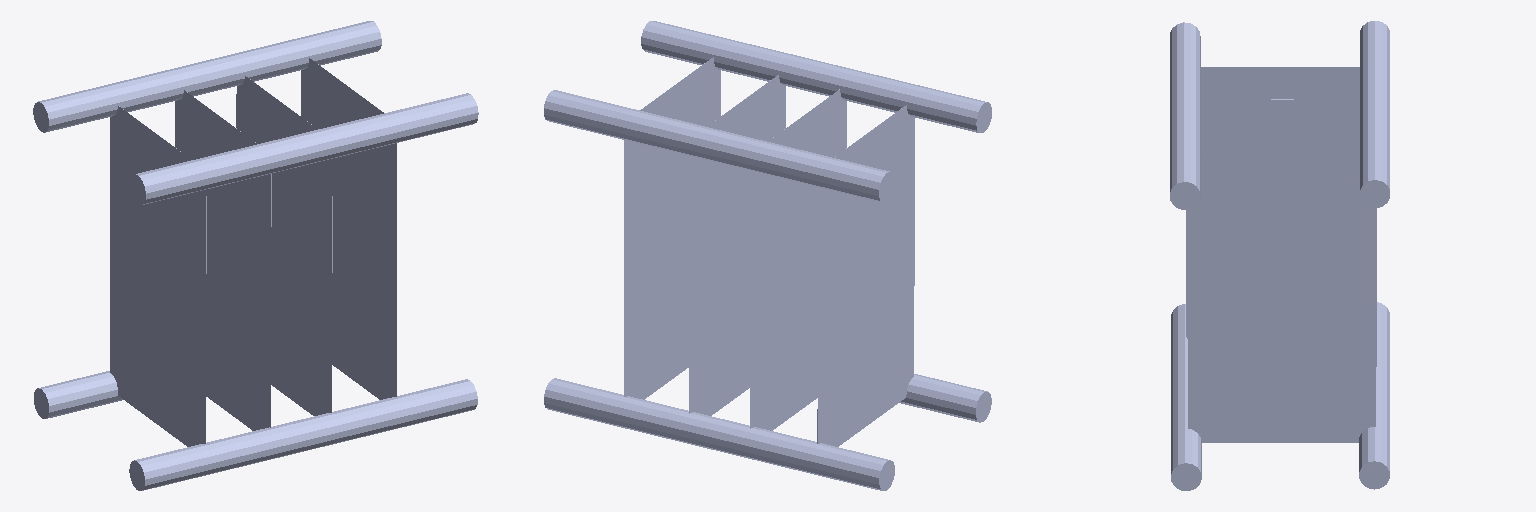
robot.urdf — save_area:
<?xml version="1.0" encoding="utf-8"?>
<!-- This URDF was automatically created by SolidWorks to URDF Exporter! Originally created by [author] ([email redacted]) 
     Commit Version: 1.5.1-0-g916b5db  Build Version: 1.5.7152.31018
     For more information, please see http://wiki.ros.org/sw_urdf_exporter -->
<robot
  name="save_area">
  <link
    name="base_link">
    <inertial>
      <origin
        xyz="1.75584290774767 -0.00633589656818148 2.50633842730977"
        rpy="0 0 0" />
      <mass
        value="4832.38898038469" />
      <inertia
        ixx="487.262155637017"
        ixy="-3.70248103518403E-12"
        ixz="1.88976473832086E-12"
        iyy="14460.7969790319"
        iyz="0.415679365082168"
        izz="14300.7991389132" />
    </inertial>
    <visual>
      <origin
        xyz="0 0 0"
        rpy="0 0 0" />
      <geometry>
        <mesh
          filename="package://save_area/meshes/base_link.STL" />
      </geometry>
      <material
        name="">
        <color
          rgba="0.792156862745098 0.819607843137255 0.933333333333333 1" />
      </material>
    </visual>
    <collision>
      <origin
        xyz="0 0 0"
        rpy="0 0 0" />
      <geometry>
        <mesh
          filename="package://save_area/meshes/base_link.STL" />
      </geometry>
    </collision>
  </link>
</robot>

--- What the picture shows (computed from the rendered views, not written in the file) ---
The picture shows the robot from 3 angles, left to right: view 1: azimuth 30°, elevation 25°; view 2: azimuth 150°, elevation 25°; view 3: azimuth 270°, elevation 25°; orthographic projection.
Model save_area with 1 links and 0 joints (none), rooted at base_link, posed all joints at 0.
Links seen in each view (by area): view 1: base_link; view 2: base_link; view 3: base_link.
Boxes of the visible links, <box> form: base_link: <box>33,21,478,490</box>; base_link: <box>544,21,991,490</box>; base_link: <box>1170,21,1389,490</box>.
Bounding box of the posed robot: 6 × 3.51 × 5.47 m (x, y, z).
Meshes: 1 distinct files referenced, 1 mesh visuals loaded (1 binary STL).